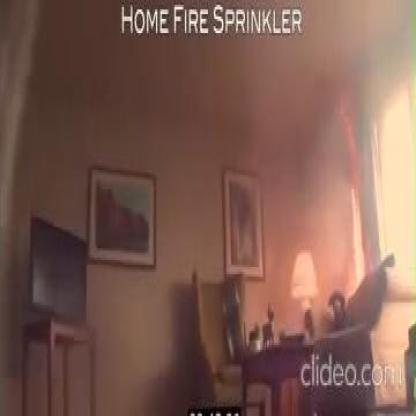fire: (335, 95, 366, 302)
